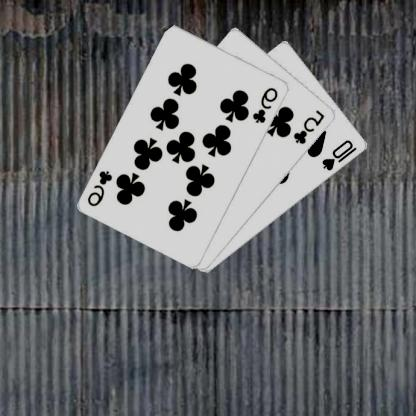10S: (322, 137, 360, 172)
5C: (292, 107, 328, 146)
9C: (252, 84, 282, 125), (87, 168, 116, 208)
